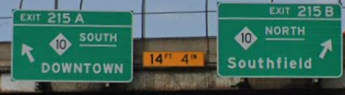1: (148, 51, 154, 67)
4: (177, 52, 190, 66), (154, 51, 164, 67)
overheadsign: (142, 51, 205, 67)
